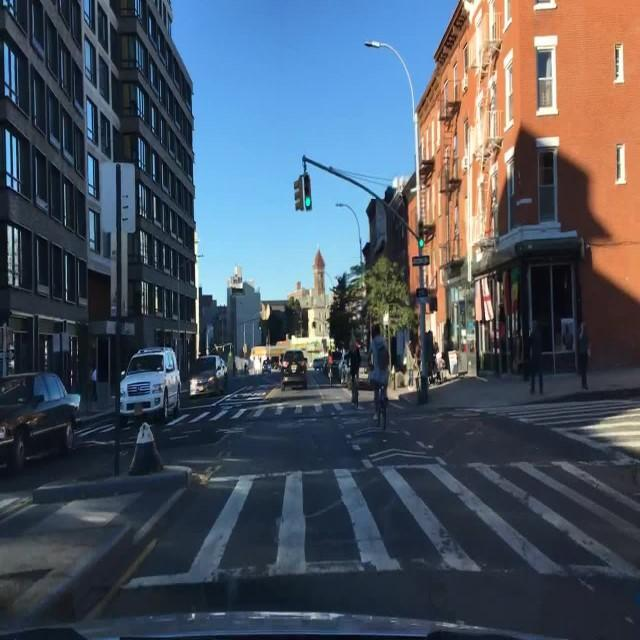normal: (0, 371, 80, 472), (117, 346, 182, 423), (189, 354, 229, 395)
